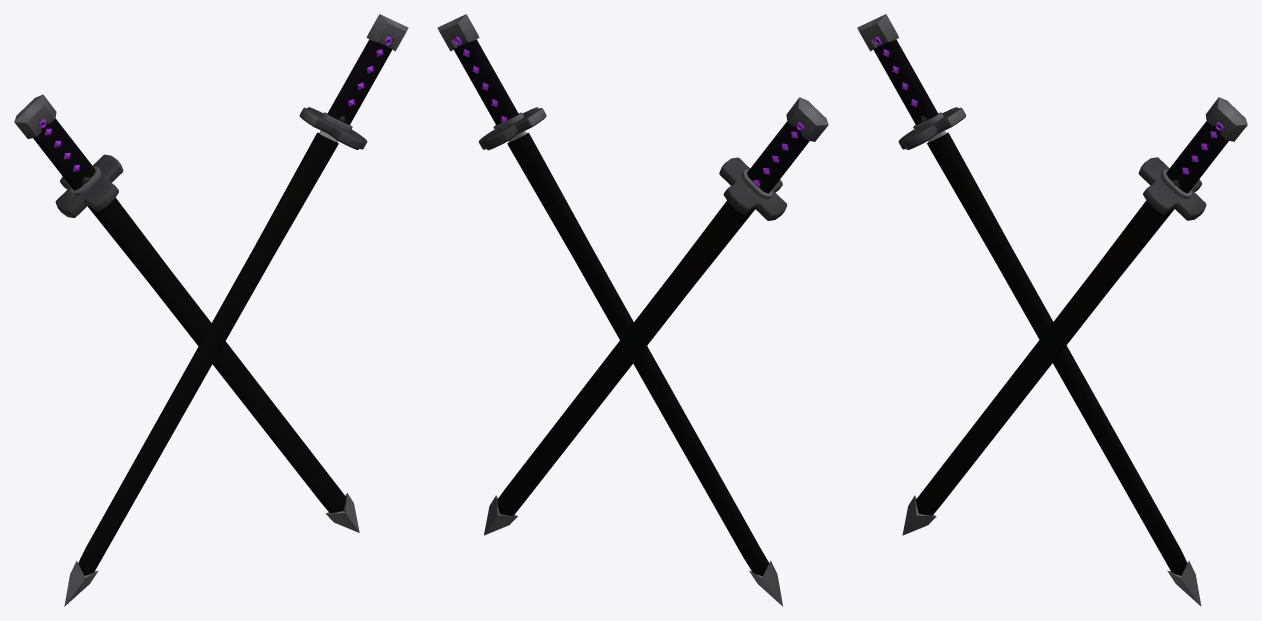
The model's file is Double Katana.glb.
3 renders of one model, left to right at view 1: azimuth 30°, elevation 25°; view 2: azimuth 150°, elevation 25°; view 3: azimuth 330°, elevation 25°, orthographic.
Visible parts, largest first — view 1: Sword; view 2: Sword; view 3: Sword.
Part boxes in pixels (x1=…): Sword: x1=14, y1=14, x2=408, y2=606; Sword: x1=437, y1=14, x2=828, y2=606; Sword: x1=857, y1=14, x2=1247, y2=606.
Size of the model in its own units: 0.7972 by 1 by 0.1399.
1 material, 1 textured.
